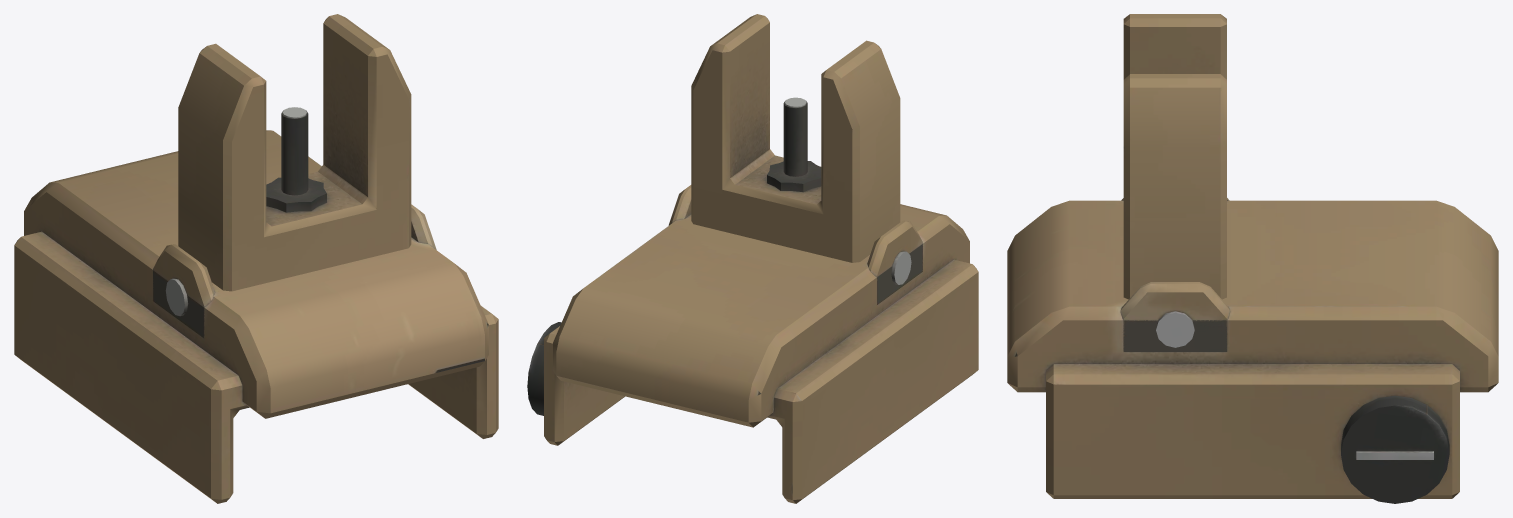
The model's file is massa_polimero_tan.glb.
3 views of the same model, side by side, from view 1: azimuth 30°, elevation 25°; view 2: azimuth 150°, elevation 25°; view 3: azimuth 270°, elevation 25° (orthographic). The views are drawn at different scales.
Parts seen in each view (by area): view 1: massa_polimero_tan_base, massa_polimero_tan_lamina; view 2: massa_polimero_tan_base, massa_polimero_tan_lamina; view 3: massa_polimero_tan_base, massa_polimero_tan_lamina.
Boxes of the visible parts, bbox=[...] form: massa_polimero_tan_base: bbox=[14, 130, 498, 503]; massa_polimero_tan_lamina: bbox=[178, 14, 411, 291]; massa_polimero_tan_base: bbox=[527, 185, 978, 503]; massa_polimero_tan_lamina: bbox=[691, 14, 900, 262]; massa_polimero_tan_base: bbox=[1007, 198, 1498, 503]; massa_polimero_tan_lamina: bbox=[1123, 14, 1226, 299].
Bounding box in the file's own units: 0.0281 × 0.0329 × 0.038.
Materials: 1 (1 with a texture image).
